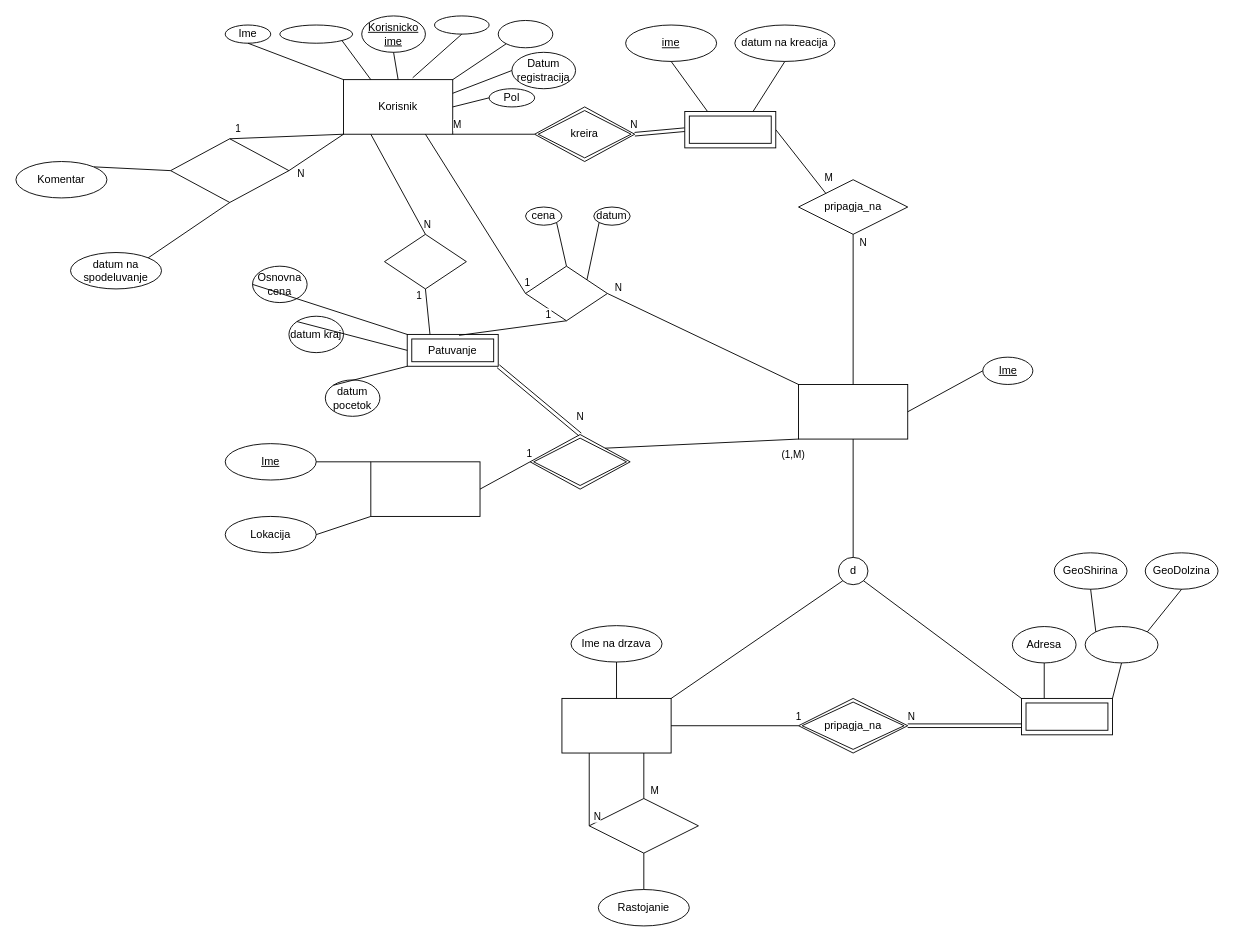
This 1234x942 diagram has some shape labels left out. The shapes that lost their labels are listed below. From the top down, each one's centre as x and y in pixels, then its label:
At pixel 316 33: "Prezime".
At pixel 461 24: "E-mail".
At pixel 525 34: "Ragjanje".
At pixel 730 129: "lista na turisticki mesta".
At pixel 229 170: "spodeluva_lista_so".
At pixel 425 261: "prisustvuva na".
At pixel 566 293: "fakultativno posetuva".
At pixel 853 411: "Turisticko mesto".
At pixel 579 461: "organizira".
At pixel 425 488: "Turisticka agencija".
At pixel 1121 644: "GeoLokacija".
At pixel 616 725: "Grad".
At pixel 1066 716: "Objekt".
At pixel 643 825: "e_sosed_so".
